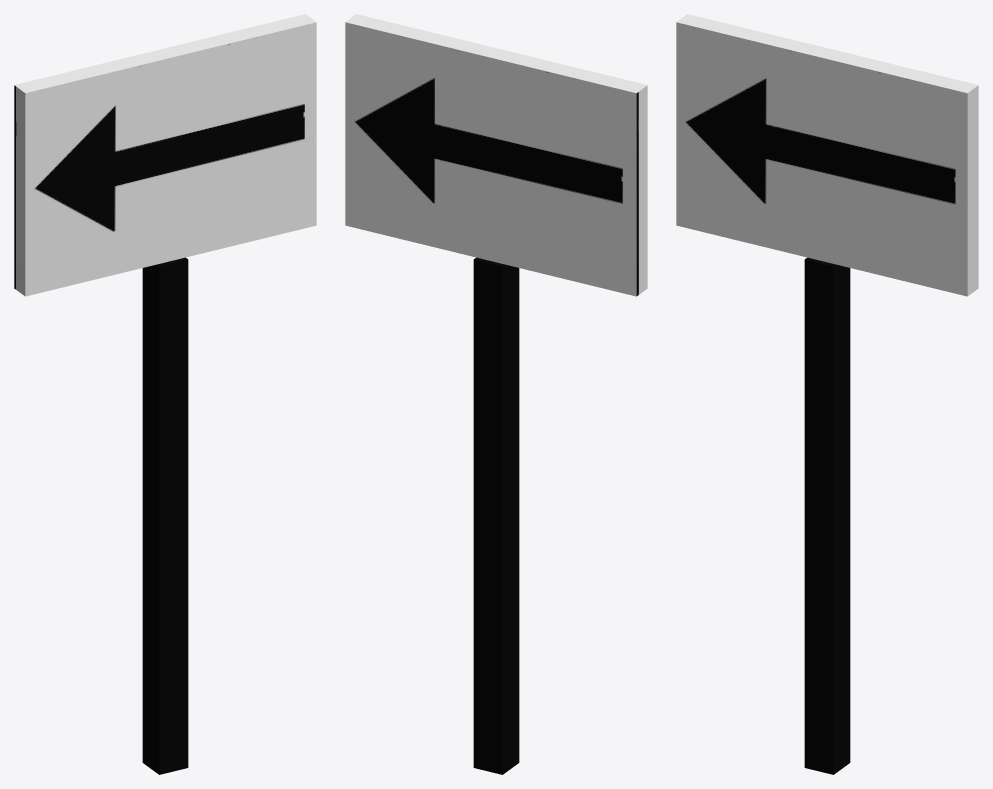
Rendered from arrow_Right.dae.
The picture shows the model from 3 angles, left to right: view 1: azimuth 30°, elevation 25°; view 2: azimuth 150°, elevation 25°; view 3: azimuth 330°, elevation 25°; orthographic projection.
Visible parts, largest first — view 1: Cube.002, Cube; view 2: Cube.002, Cube; view 3: Cube.002, Cube.
Part boxes in pixels (bbox=[...]): Cube.002: bbox=[14, 14, 316, 296]; Cube: bbox=[142, 257, 188, 774]; Cube.002: bbox=[345, 14, 647, 296]; Cube: bbox=[473, 257, 519, 774]; Cube.002: bbox=[676, 14, 978, 296]; Cube: bbox=[804, 257, 850, 774].
Size of the model in its own units: 0.3 by 0.03 by 0.7.
